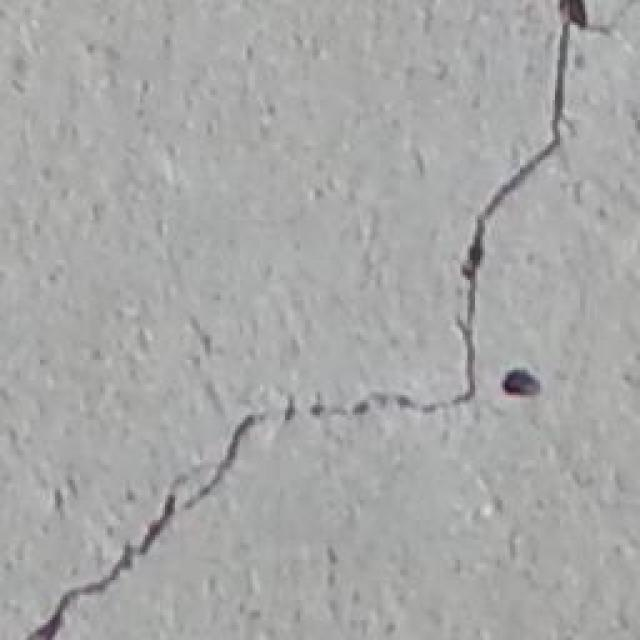concrete-crack: (308, 0, 590, 415), (25, 410, 275, 640)
